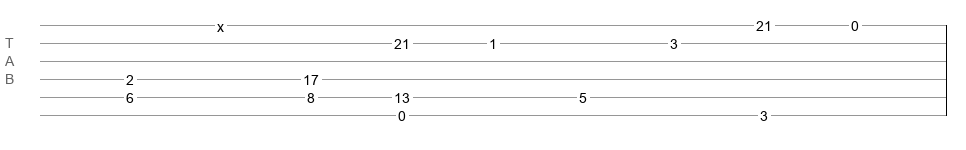0: (398, 108, 406, 118), (851, 18, 859, 28)
1: (489, 36, 497, 46)
13: (394, 90, 410, 100)
17: (303, 72, 319, 82)
2: (126, 72, 134, 82)
21: (394, 36, 410, 46), (756, 18, 772, 28)
3: (670, 36, 678, 46), (760, 108, 768, 118)
5: (579, 90, 587, 100)
6: (126, 90, 134, 100)
8: (307, 90, 315, 100)
x: (217, 19, 224, 27)
